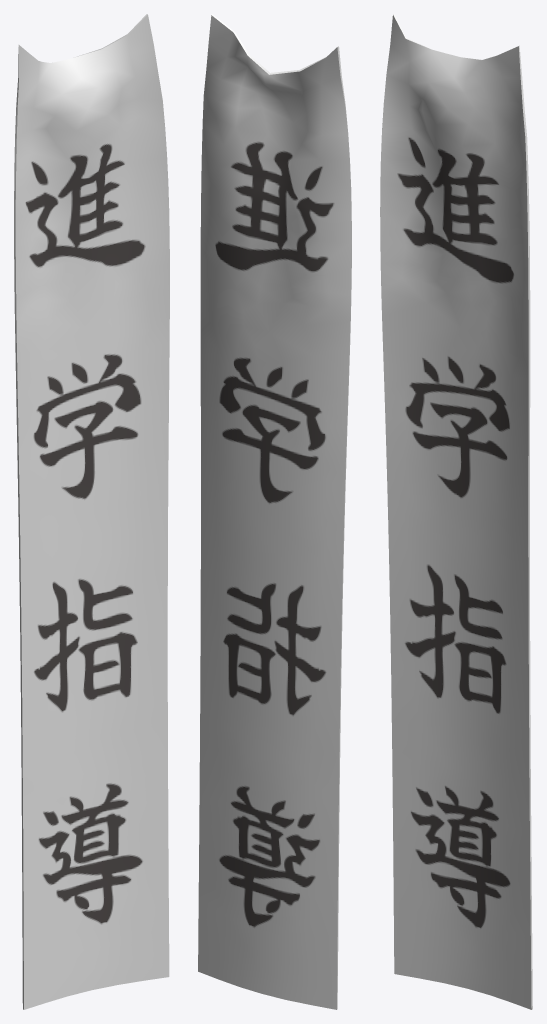
Rendered from SM_banner_guidance.fbx.
The picture shows the model from 3 angles, left to right: view 1: azimuth 30°, elevation 25°; view 2: azimuth 150°, elevation 25°; view 3: azimuth 330°, elevation 25°; orthographic projection.
Parts seen in each view (by area): view 1: banner05; view 2: banner05; view 3: banner05.
Boxes of the visible parts, x1=… form: banner05: x1=14, y1=14, x2=169, y2=1009; banner05: x1=198, y1=14, x2=351, y2=1009; banner05: x1=380, y1=14, x2=532, y2=1009.
Bounding box in the file's own units: 23.35 × 140 × 4.43.
1 material, 1 textured.
